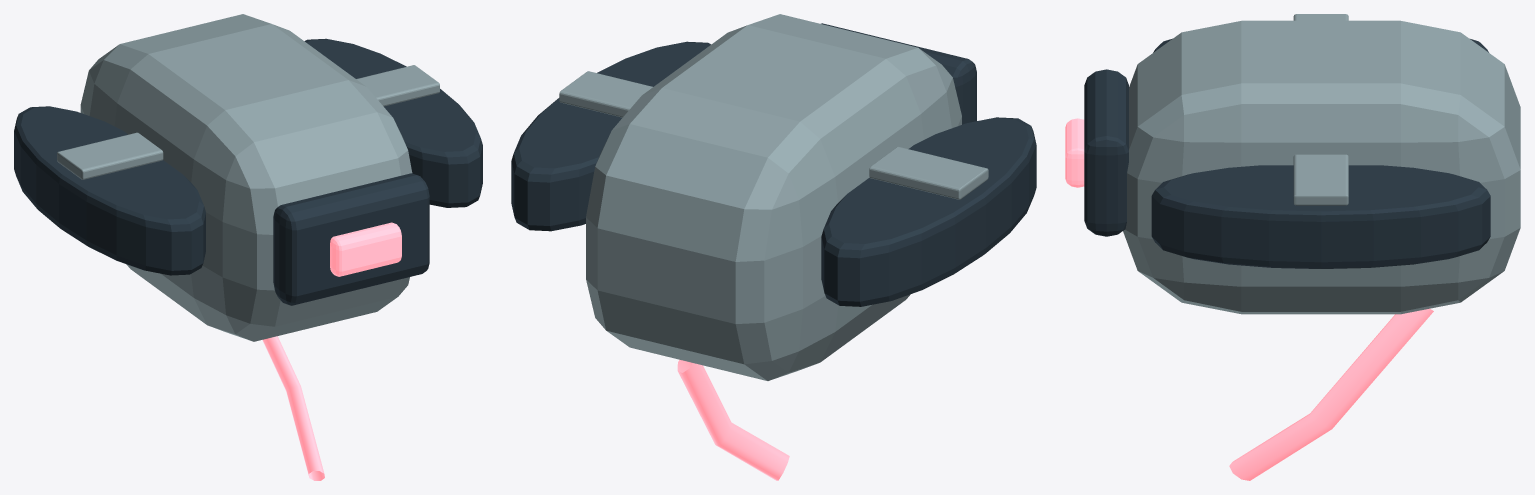
File: SM_Drone.fbx
3 views of the same model, side by side, from view 1: azimuth 30°, elevation 25°; view 2: azimuth 150°, elevation 25°; view 3: azimuth 270°, elevation 25° (orthographic). The views are drawn at different scales.
Visible parts, largest first — view 1: SM_Drone; view 2: SM_Drone; view 3: SM_Drone.
Part boxes in pixels (<box>): SM_Drone: <box>14,14,482,480</box>; SM_Drone: <box>511,14,1036,480</box>; SM_Drone: <box>1065,14,1520,480</box>.
Bounding box in the file's own units: 100 × 100 × 100.
